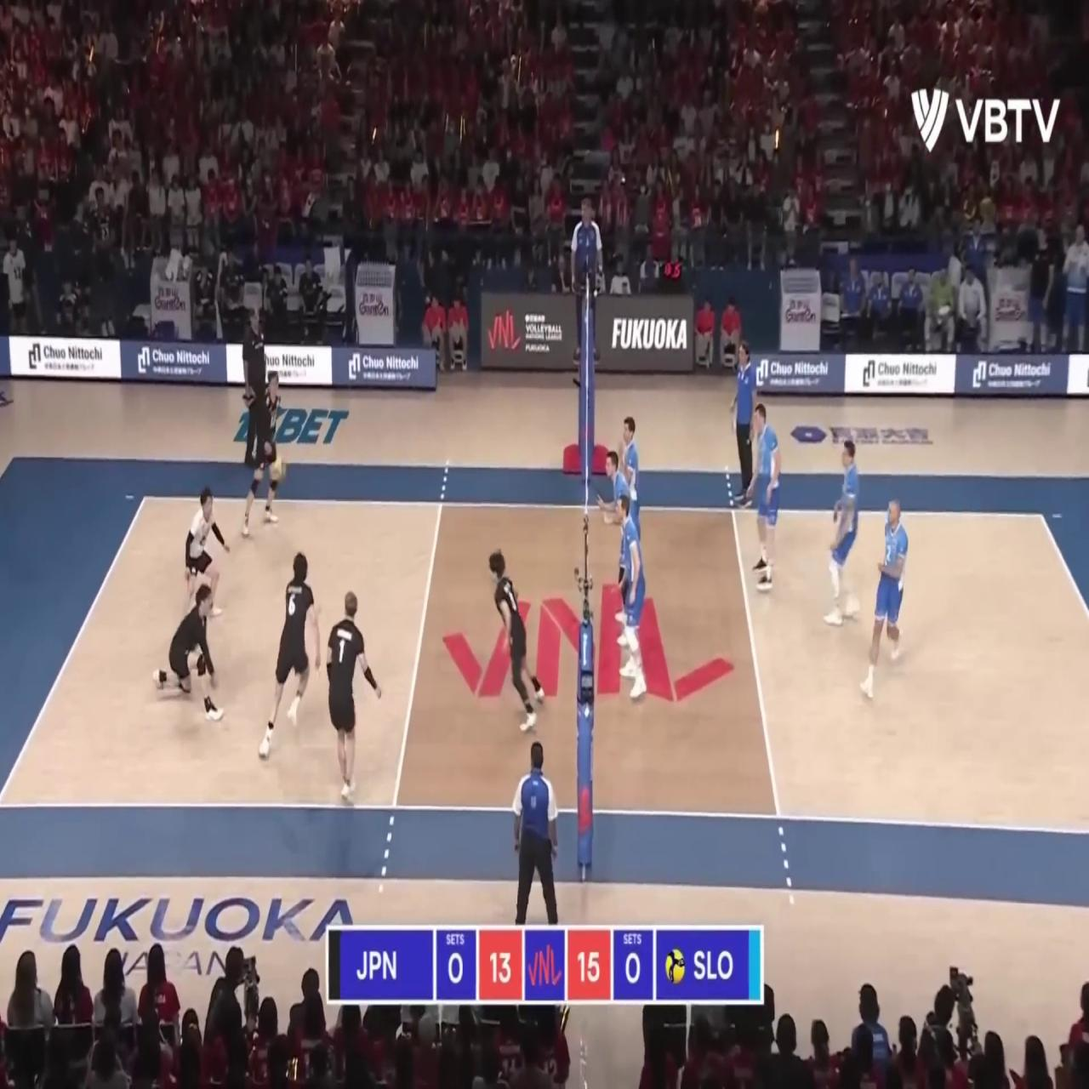ball: (270, 455, 287, 485)
